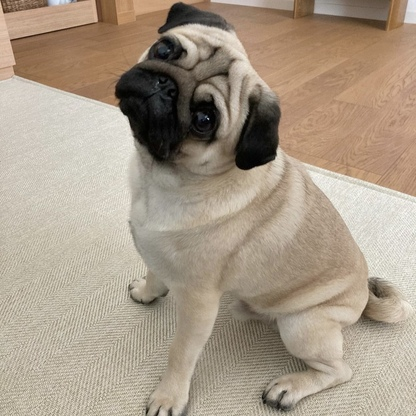Pug: (107, 1, 416, 416)
